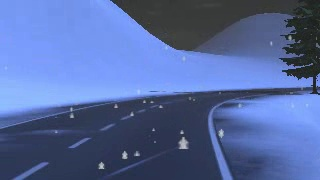Lane: (0, 88, 308, 179)
